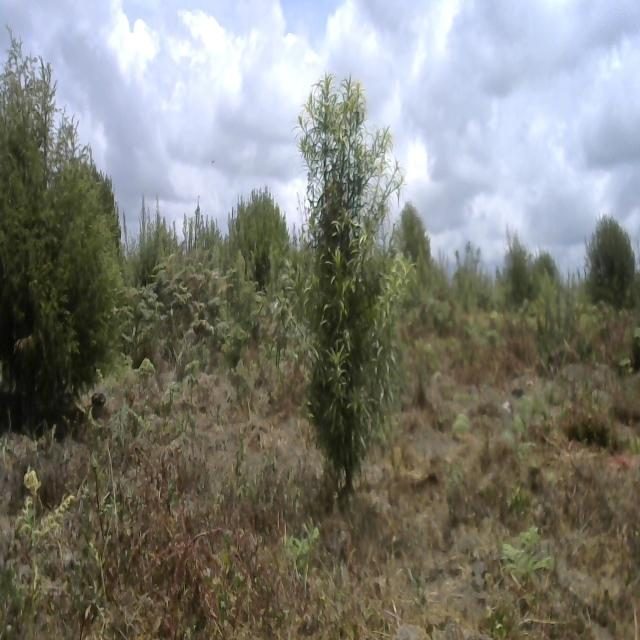Juniperus procesera: (0, 27, 121, 402)
Olea europea -africana-: (229, 177, 290, 281), (583, 210, 640, 312)
Podocarpus falcatus: (297, 75, 413, 492)
